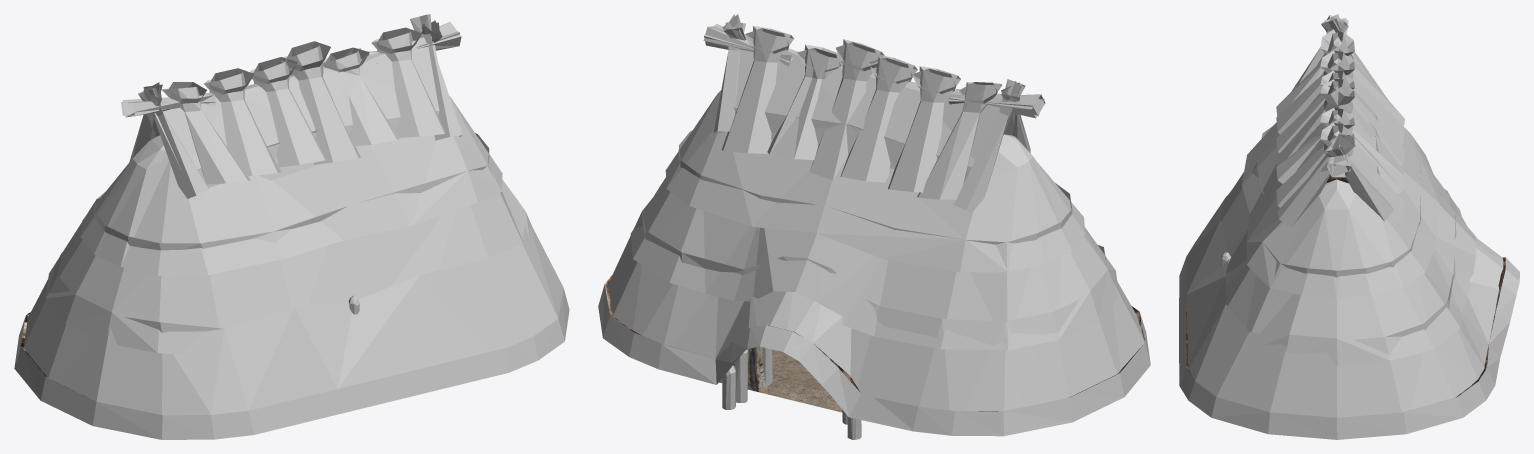
The model's file is Roundhut_3_LOD1.fbx.
The picture shows the model from 3 angles, left to right: view 1: azimuth 30°, elevation 25°; view 2: azimuth 150°, elevation 25°; view 3: azimuth 270°, elevation 25°; orthographic projection. The views are drawn at different scales.
Parts seen in each view (by area): view 1: Alpha; view 2: Alpha, Ground, Wood, Plaster_4, Roofing; view 3: Alpha, Roofing.
Part boxes in pixels (left/top/right/bottom): Alpha: left=14, top=14, right=569, bottom=439; Alpha: left=598, top=14, right=1150, bottom=436; Ground: left=759, top=349, right=842, bottom=412; Wood: left=722, top=347, right=861, bottom=439; Plaster_4: left=719, top=346, right=842, bottom=411; Roofing: left=604, top=274, right=1144, bottom=411; Alpha: left=1179, top=14, right=1519, bottom=439; Roofing: left=1186, top=257, right=1505, bottom=397.
Bounding box in the file's own units: 2226 × 1481 × 1344.
